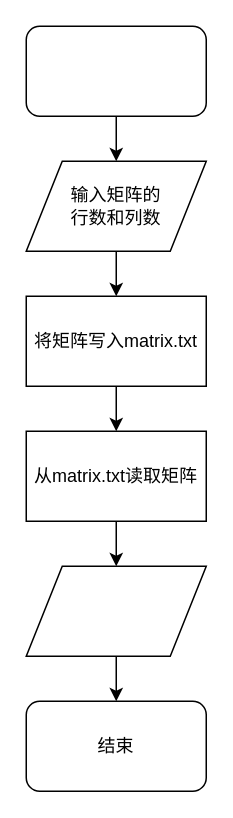
The diagram is 233 pixels wide and 818 high, and some of its shapes have lost their labels. The centre of each missing label's shape, as x and y in pixels:
"开始" belongs at point 115,70.
"打印矩阵" belongs at point 115,610.
